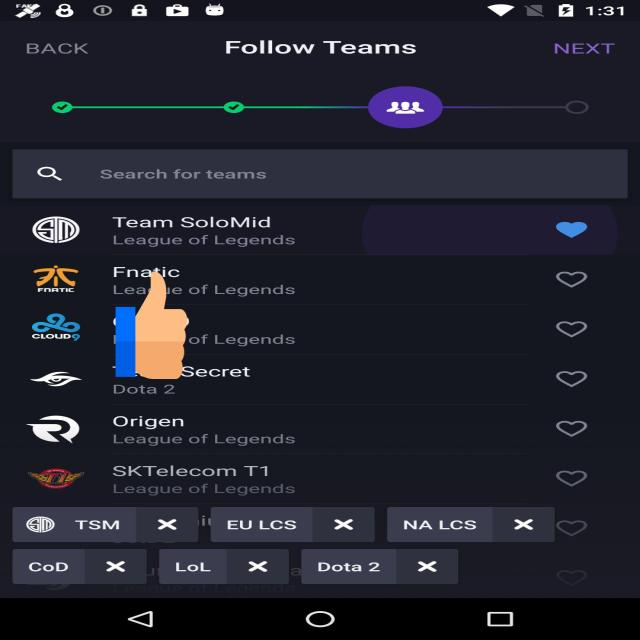privacy zuckering: (116, 268, 187, 382)
